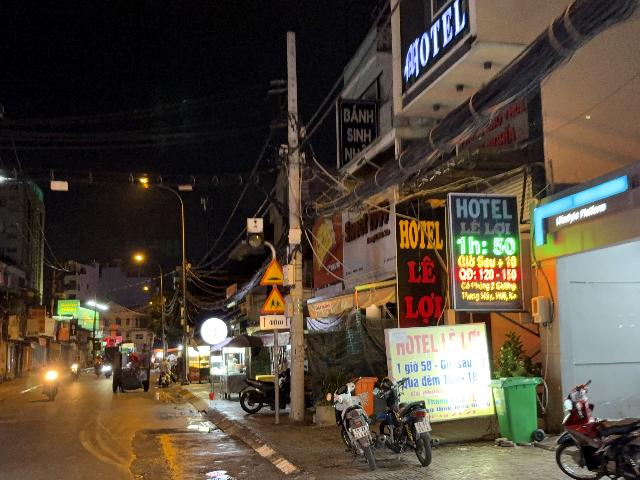duong-co-go-giam-toc: (260, 257, 283, 285)
tre-em-qua-duong: (261, 286, 285, 313)
